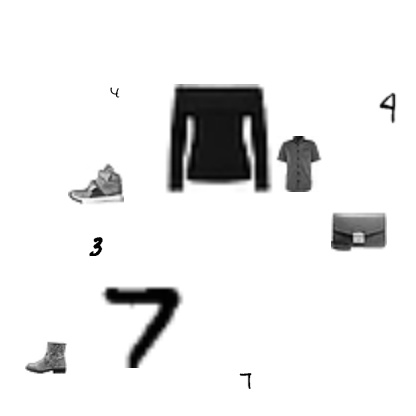3: (83, 233, 111, 261)
4: (368, 84, 410, 126), (108, 85, 122, 99)
7: (90, 256, 202, 368), (236, 367, 258, 389)
Ankle_boot: (25, 336, 67, 378)
Bag: (331, 203, 387, 259)
Pullover: (163, 84, 275, 196)
Shirt: (271, 136, 327, 192)
Sneaker: (68, 156, 124, 212)
